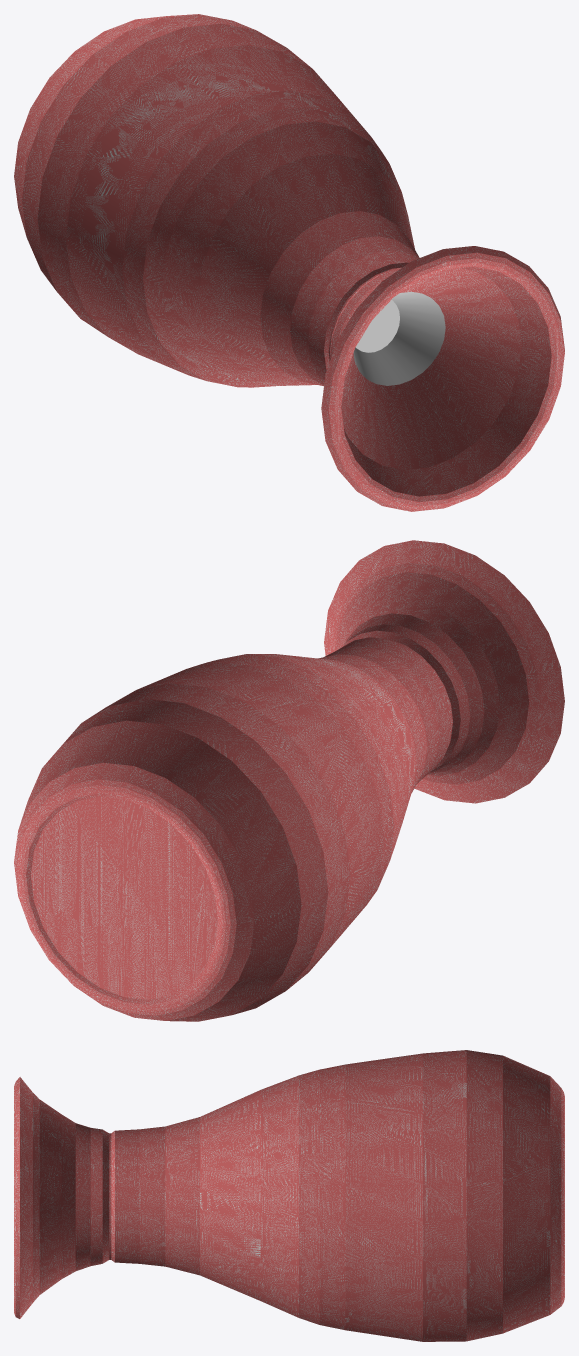
The model's file is model_scale.obj.
3 renders of one model, top to bottom at view 1: azimuth 30°, elevation 25°; view 2: azimuth 150°, elevation 25°; view 3: azimuth 270°, elevation 25°, orthographic. The views are drawn at different scales.
Parts seen in each view (by area): view 1: mesh1_mesh1-geometry; view 2: mesh1_mesh1-geometry; view 3: mesh1_mesh1-geometry.
Boxes of the visible parts, x1,y1,x2,y2 form: mesh1_mesh1-geometry: [14, 14, 564, 511]; mesh1_mesh1-geometry: [14, 540, 564, 1021]; mesh1_mesh1-geometry: [14, 1050, 564, 1341].
Bounding box in the file's own units: 0.0712 × 0.0725 × 0.1361.
